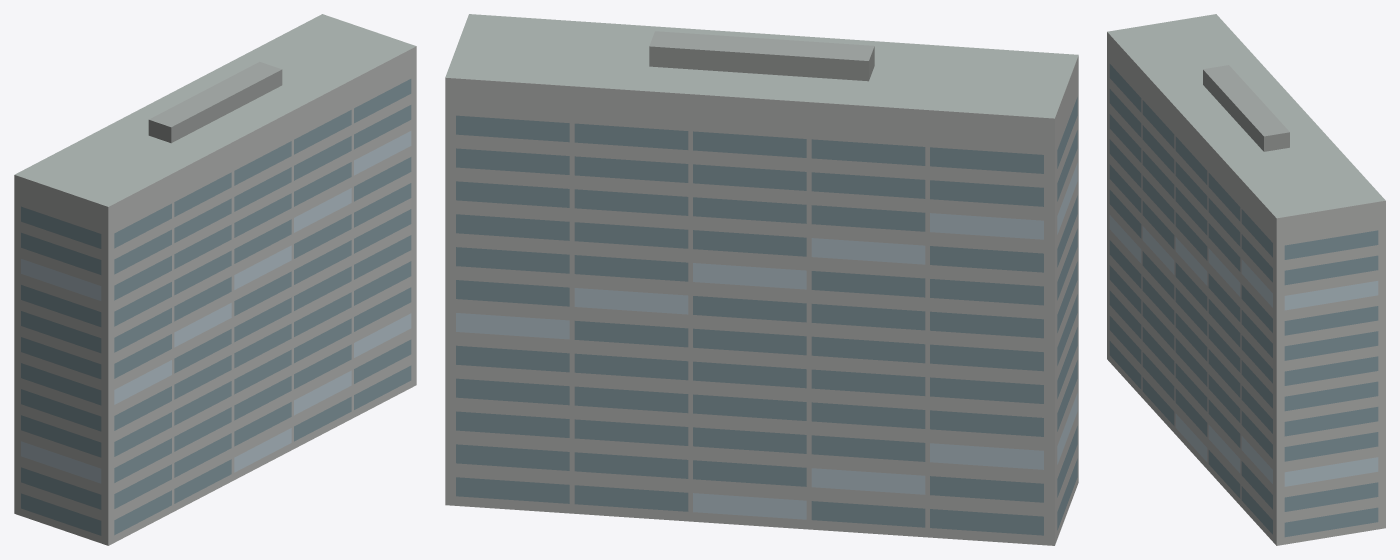
The model's file is fallback-songpa-helio-city-101.glb.
The picture shows the model from 3 angles, left to right: view 1: azimuth 30°, elevation 25°; view 2: azimuth 150°, elevation 25°; view 3: azimuth 270°, elevation 25°; orthographic projection. The views are drawn at different scales.
Parts seen in each view (by area): view 1: fallback-songpa-helio-city-101; view 2: fallback-songpa-helio-city-101; view 3: fallback-songpa-helio-city-101.
Part boxes in pixels (x1=…): fallback-songpa-helio-city-101: x1=14, y1=14, x2=416, y2=545; fallback-songpa-helio-city-101: x1=445, y1=14, x2=1078, y2=545; fallback-songpa-helio-city-101: x1=1107, y1=14, x2=1385, y2=545.
Bounding box in the file's own units: 47.29 × 37 × 27.26.
